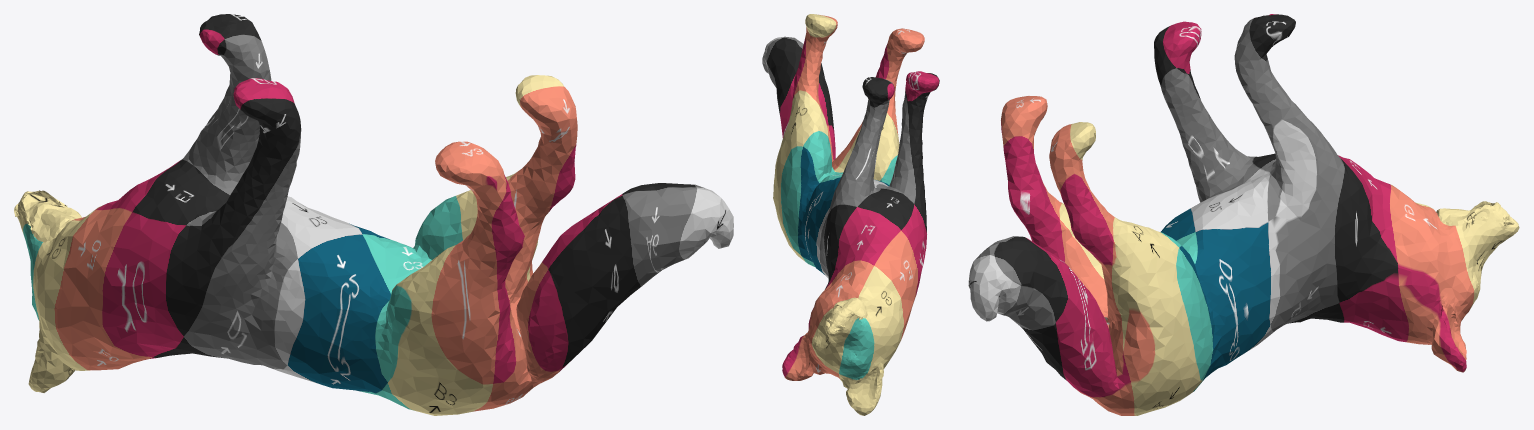
The model's file is fox_02-fox_01.obj.
The picture shows the model from 3 angles, left to right: view 1: azimuth 30°, elevation 25°; view 2: azimuth 150°, elevation 25°; view 3: azimuth 270°, elevation 25°; orthographic projection. The views are drawn at different scales.
Visible parts, largest first — view 1: fox_02-fox_01_export; view 2: fox_02-fox_01_export; view 3: fox_02-fox_01_export.
Part boxes in pixels (left/top/right/bottom): fox_02-fox_01_export: left=14, top=14, right=733, bottom=415; fox_02-fox_01_export: left=762, top=14, right=939, bottom=415; fox_02-fox_01_export: left=968, top=14, right=1519, bottom=415.
Bounding box in the file's own units: 0.6995 × 0.6346 × 0.8544.
